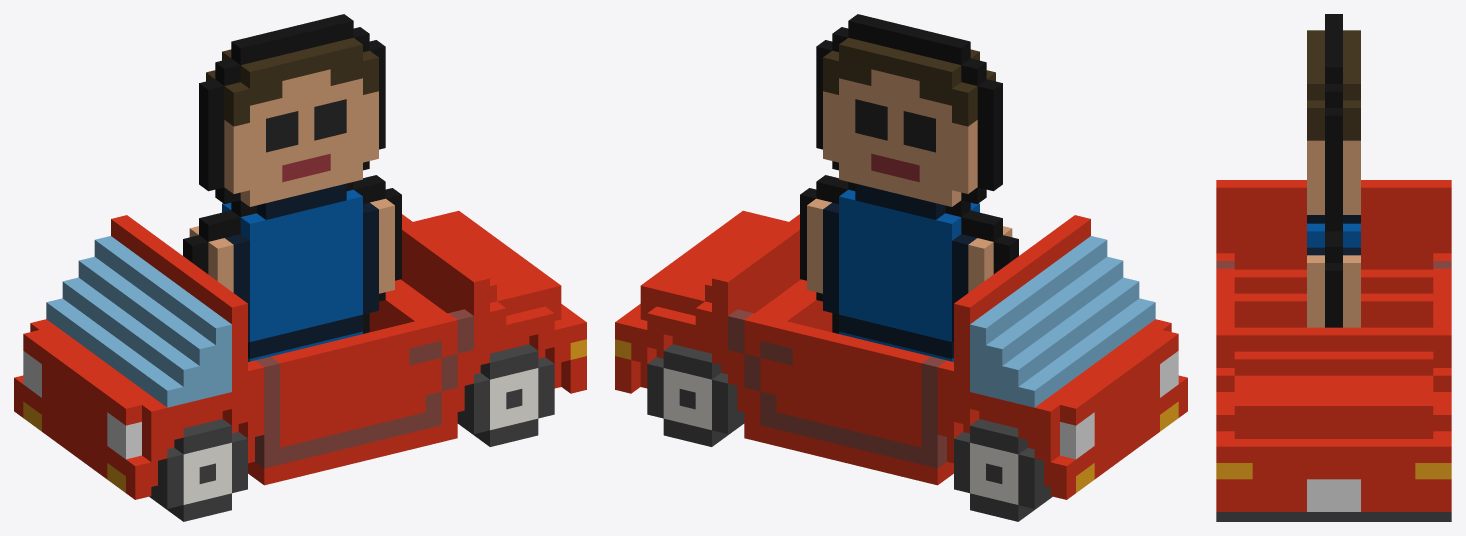
The model's file is 210413 man car.obj.
3 views of the same model, side by side, from view 1: azimuth 30°, elevation 25°; view 2: azimuth 150°, elevation 25°; view 3: azimuth 270°, elevation 25° (orthographic). The views are drawn at different scales.
Size of the model in its own units: 2.8 by 2.4 by 1.3.
Materials: 1 (1 with a texture image).
